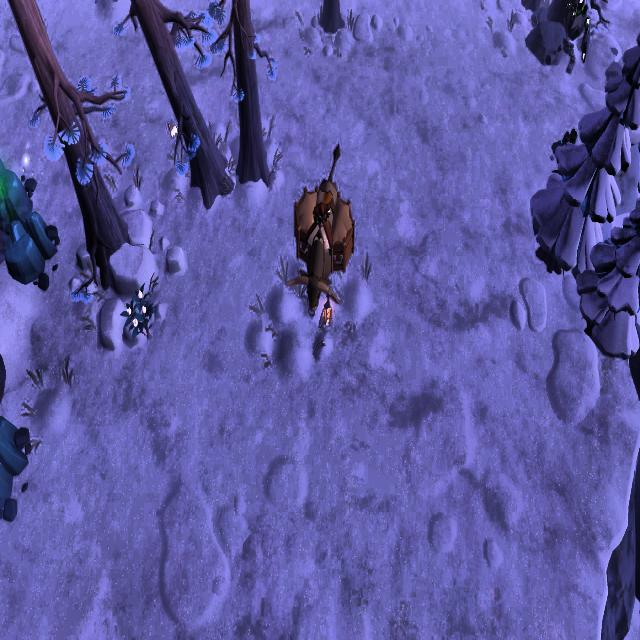fiber_t4: (122, 284, 154, 342)
rock_t4: (0, 208, 60, 287), (0, 157, 35, 236), (0, 402, 21, 524)
